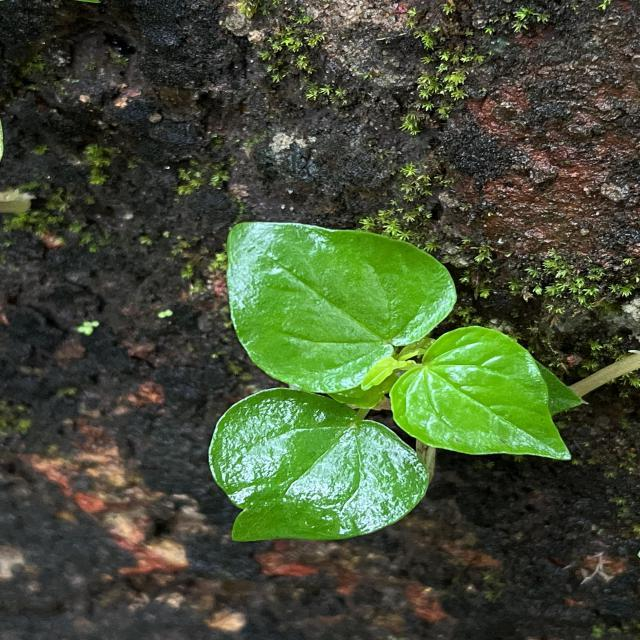Peperomia pellucida: (224, 221, 458, 395), (207, 386, 431, 544), (388, 325, 573, 463)
